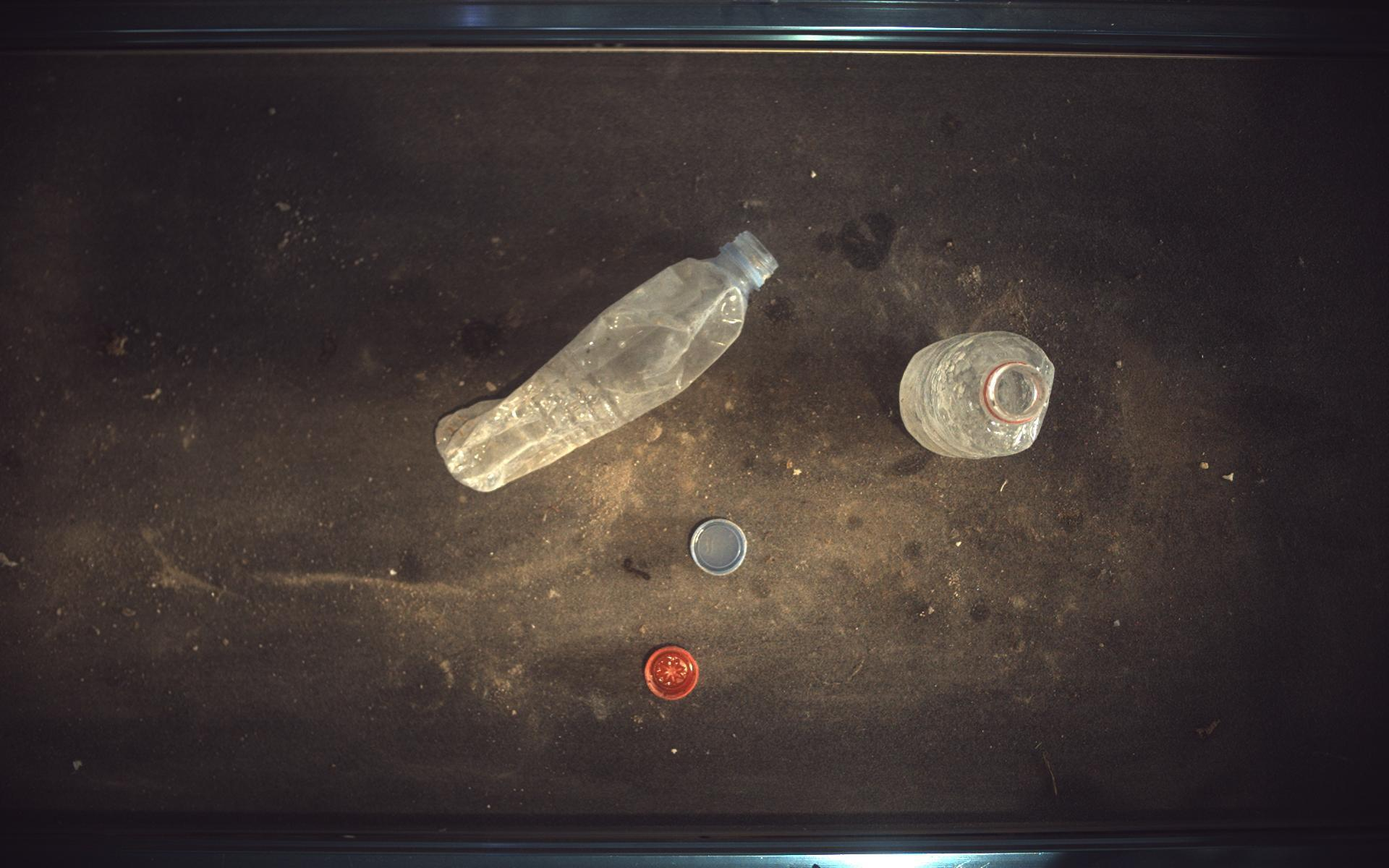general_w: (436, 230, 779, 492), (901, 331, 1056, 459)
